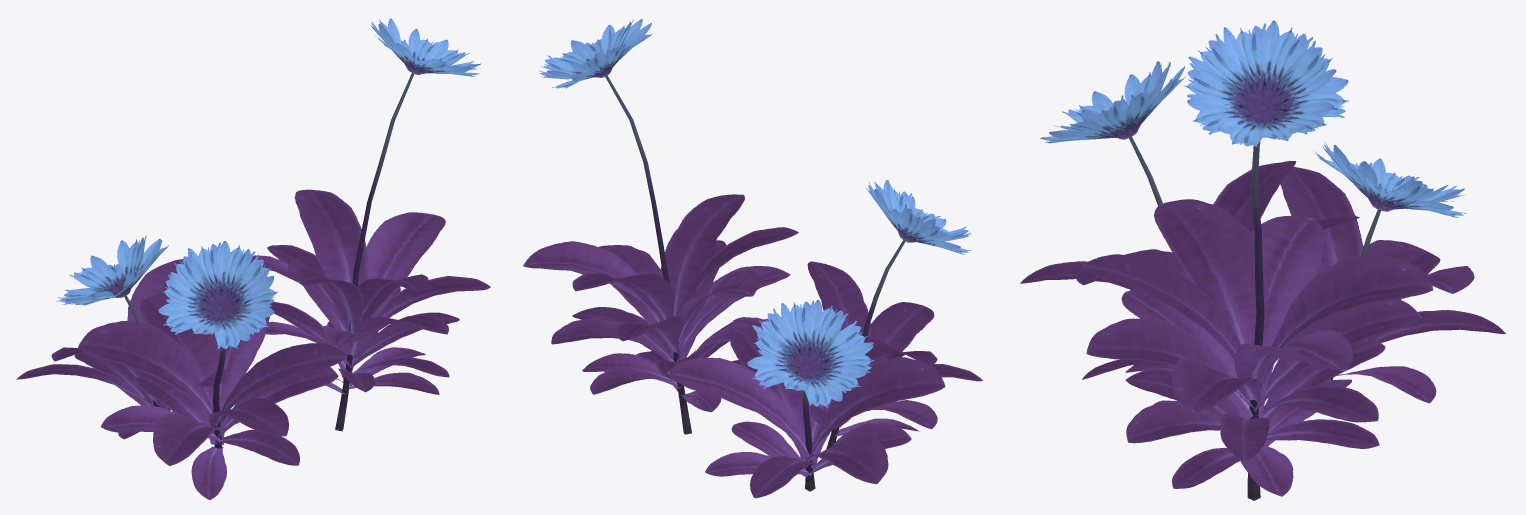
The picture shows the model from 3 angles, left to right: view 1: azimuth 30°, elevation 25°; view 2: azimuth 150°, elevation 25°; view 3: azimuth 270°, elevation 25°; orthographic projection. The views are drawn at different scales.
Parts seen in each view (by area): view 1: SM_FH_Gazania_01_LOD0; view 2: SM_FH_Gazania_01_LOD0; view 3: SM_FH_Gazania_01_LOD0.
Part boxes in pixels (x1,y1,x2,y2): SM_FH_Gazania_01_LOD0: (16, 18, 490, 500); SM_FH_Gazania_01_LOD0: (523, 19, 982, 498); SM_FH_Gazania_01_LOD0: (1020, 20, 1505, 500).
Bounding box in the file's own units: 0.4226 × 0.39 × 0.3413.
Materials: 1 (1 with a texture image).
